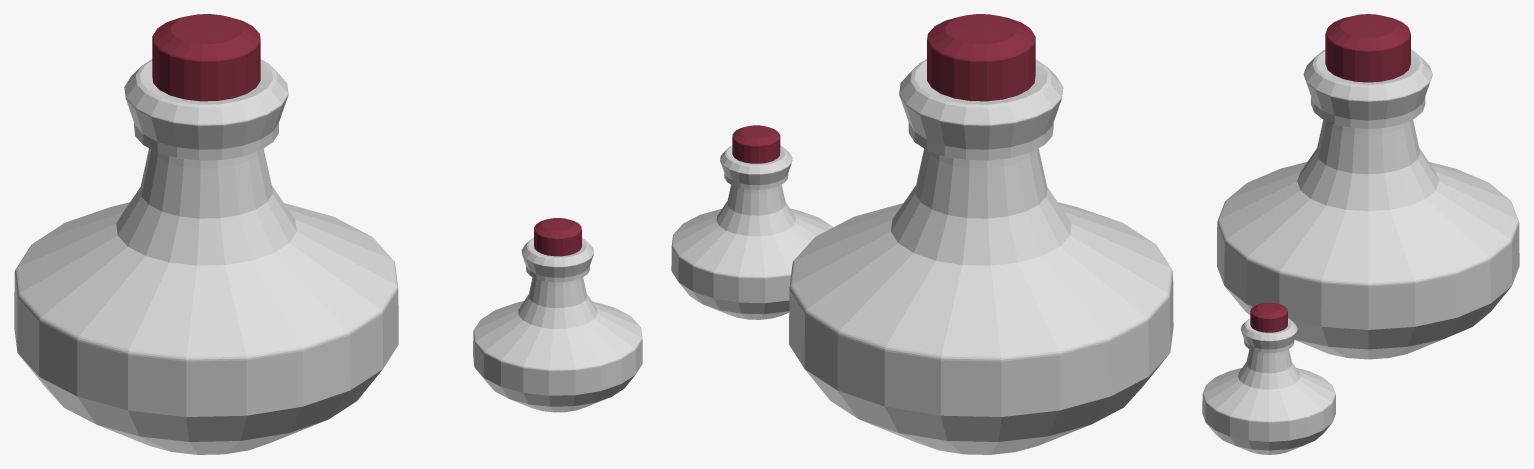
File: Potions.fbx
3 renders of one model, left to right at view 1: azimuth 30°, elevation 25°; view 2: azimuth 150°, elevation 25°; view 3: azimuth 270°, elevation 25°, orthographic. The views are drawn at different scales.
Parts seen in each view (by area): view 1: group4polySurface10, group4polySurface21, pCylinder3group4, group4pCylinder6; view 2: group4polySurface10, group4polySurface21, pCylinder3group4, group4pCylinder6; view 3: group4polySurface10, group4polySurface21, pCylinder3group4, group4pCylinder6.
Boxes of the visible parts, x1=… form: group4polySurface10: x1=14, y1=59, x2=398, y2=454; group4polySurface21: x1=473, y1=238, x2=642, y2=412; pCylinder3group4: x1=152, y1=14, x2=260, y2=101; group4pCylinder6: x1=534, y1=218, x2=581, y2=256; group4polySurface10: x1=789, y1=59, x2=1173, y2=454; group4polySurface21: x1=671, y1=145, x2=833, y2=319; pCylinder3group4: x1=927, y1=14, x2=1035, y2=101; group4pCylinder6: x1=732, y1=125, x2=780, y2=163; group4polySurface10: x1=1217, y1=49, x2=1519, y2=359; group4polySurface21: x1=1202, y1=318, x2=1335, y2=454; pCylinder3group4: x1=1325, y1=14, x2=1410, y2=82; group4pCylinder6: x1=1250, y1=302, x2=1287, y2=332.
Bounding box in the file's own units: 9.22 × 6.54 × 6.11.
